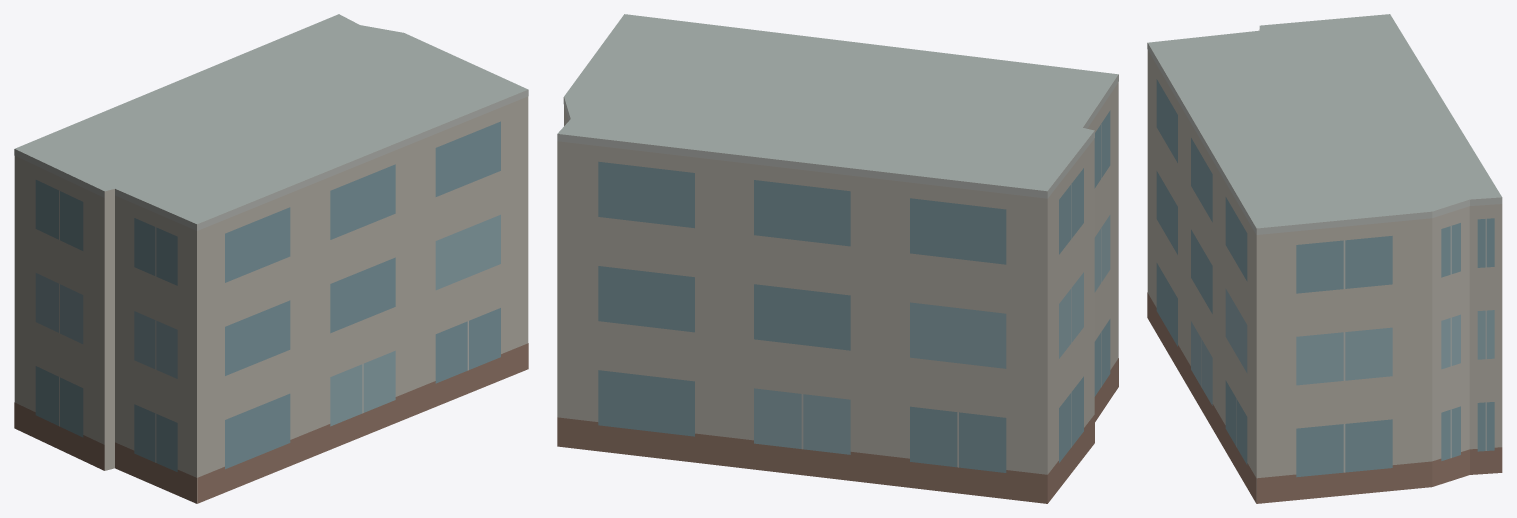
The model's file is survey-upis-32749829.glb.
3 renders of one model, left to right at view 1: azimuth 30°, elevation 25°; view 2: azimuth 150°, elevation 25°; view 3: azimuth 270°, elevation 25°, orthographic. The views are drawn at different scales.
Visible parts, largest first — view 1: survey-upis-32749829.tmp; view 2: survey-upis-32749829.tmp; view 3: survey-upis-32749829.tmp.
Boxes of the visible parts, box(x1,y1,x2,y2) form: survey-upis-32749829.tmp: box(14, 14, 528, 503); survey-upis-32749829.tmp: box(557, 14, 1118, 503); survey-upis-32749829.tmp: box(1147, 14, 1502, 503).
Bounding box in the file's own units: 17.05 × 10.2 × 11.92.
